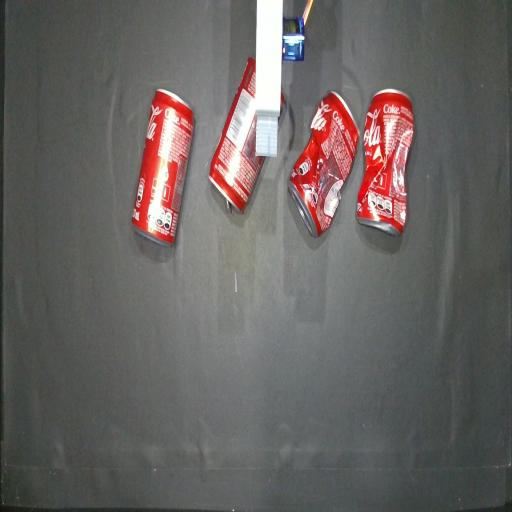lata: (132, 89, 194, 245), (209, 57, 264, 213), (281, 93, 285, 112)
lata_defectuoso: (288, 91, 360, 238), (356, 89, 414, 236)
